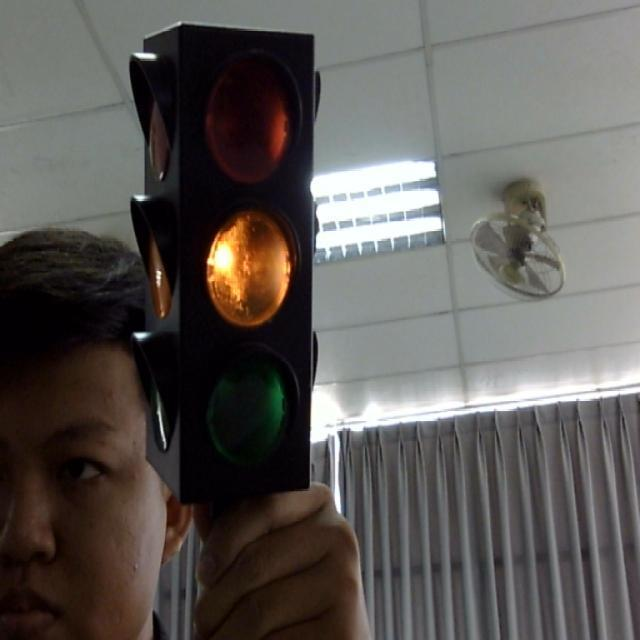yellow_light: (124, 23, 322, 513)
